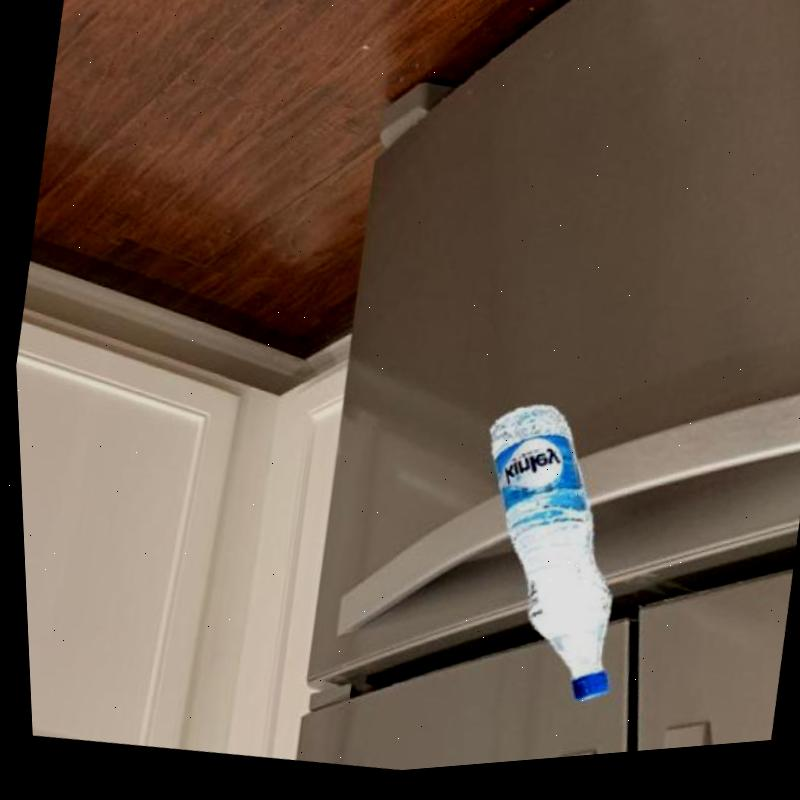botella: (431, 398, 651, 728)
